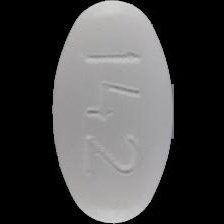45963-142: (0, 0, 224, 224)
